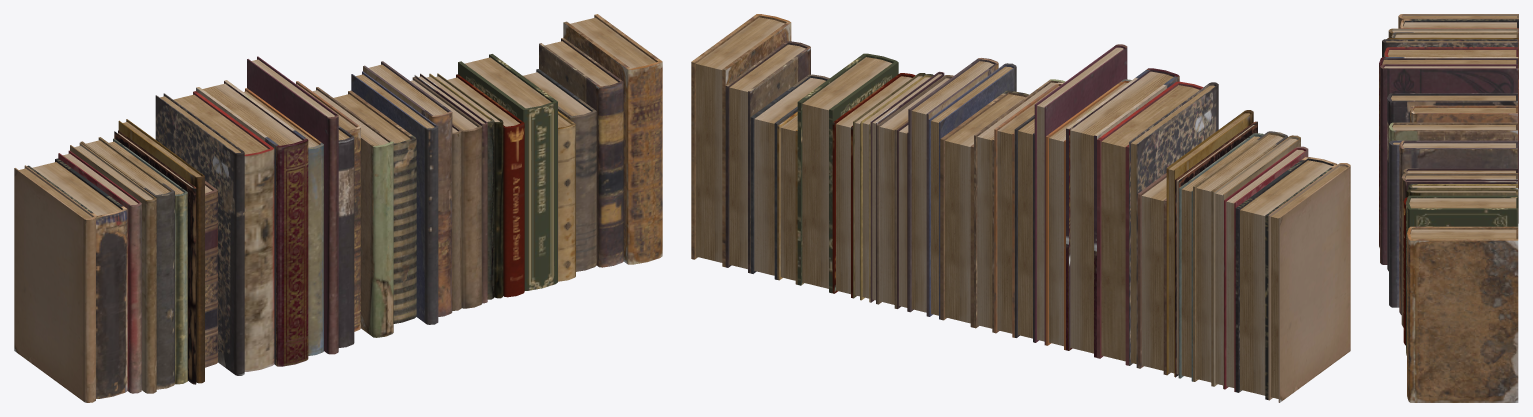
The model's file is SM_Book_Old.007.fbx.
3 views of the same model, side by side, from view 1: azimuth 30°, elevation 25°; view 2: azimuth 150°, elevation 25°; view 3: azimuth 270°, elevation 25° (orthographic). The views are drawn at different scales.
Visible parts, largest first — view 1: SM_Book_Old.007; view 2: SM_Book_Old.007; view 3: SM_Book_Old.007.
Part boxes in pixels (x1,y1,x2,y2): SM_Book_Old.007: [14, 14, 662, 402]; SM_Book_Old.007: [691, 14, 1350, 402]; SM_Book_Old.007: [1379, 14, 1518, 402].
Size of the model in its own units: 0.9736 by 0.3765 by 0.2433.
